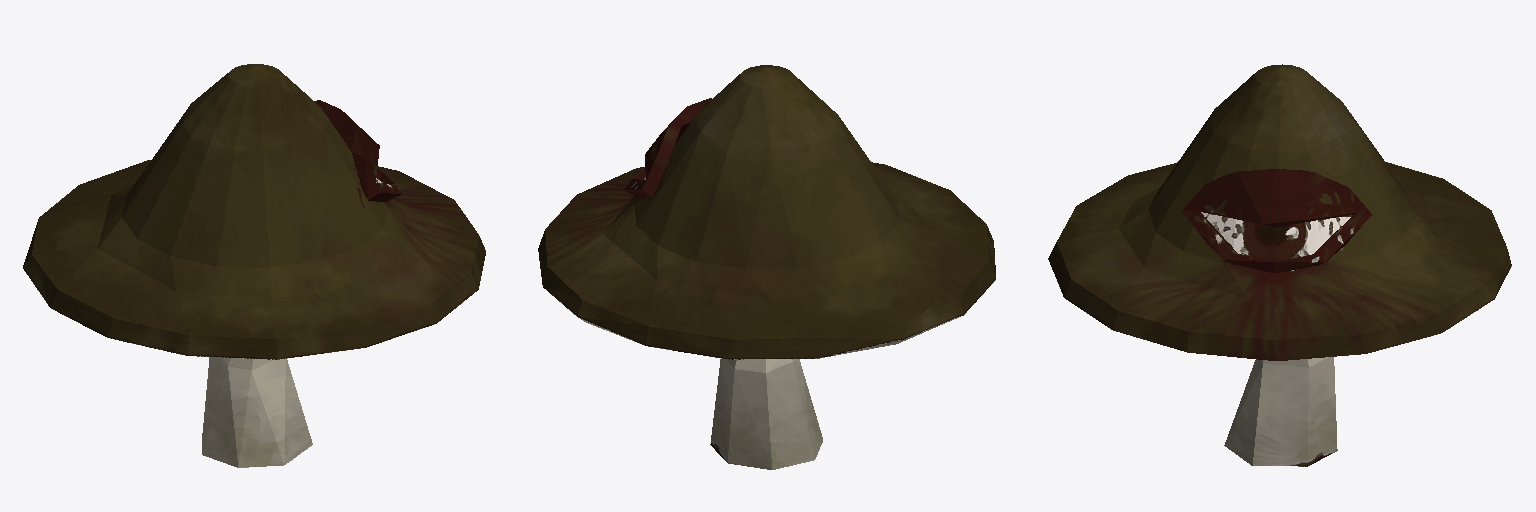
3 views of the same model, side by side, from view 1: azimuth 30°, elevation 25°; view 2: azimuth 150°, elevation 25°; view 3: azimuth 270°, elevation 25° (orthographic).
Parts seen in each view (by area): view 1: Circle.005; view 2: Circle.005; view 3: Circle.005.
Boxes of the visible parts, <box> form: Circle.005: <box>23,64,485,467</box>; Circle.005: <box>538,65,995,469</box>; Circle.005: <box>1048,64,1511,466</box>.
Bounding box in the file's own units: 17.56 × 15.82 × 17.57.
1 materials, 1 textured.